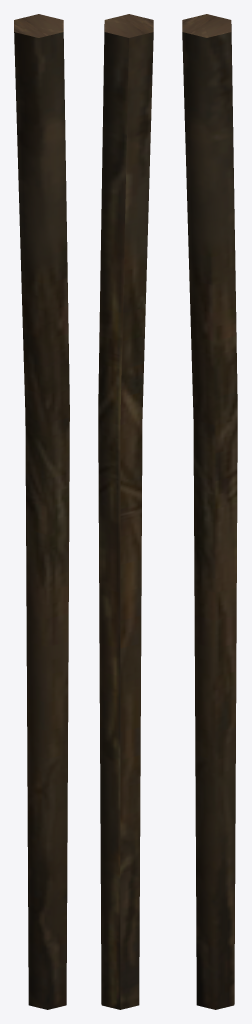
Rendered from Z_mutiao001.fbx.
3 views of the same model, side by side, from view 1: azimuth 30°, elevation 25°; view 2: azimuth 210°, elevation 25°; view 3: azimuth 330°, elevation 25° (orthographic).
Parts seen in each view (by area): view 1: Z_mutiao001; view 2: Z_mutiao001; view 3: Z_mutiao001.
Part boxes in pixels (x1=…): Z_mutiao001: x1=14, y1=14, x2=69, y2=1009; Z_mutiao001: x1=98, y1=14, x2=153, y2=1009; Z_mutiao001: x1=182, y1=14, x2=237, y2=1009.
Bounding box in the file's own units: 23.98 × 402 × 18.41.
